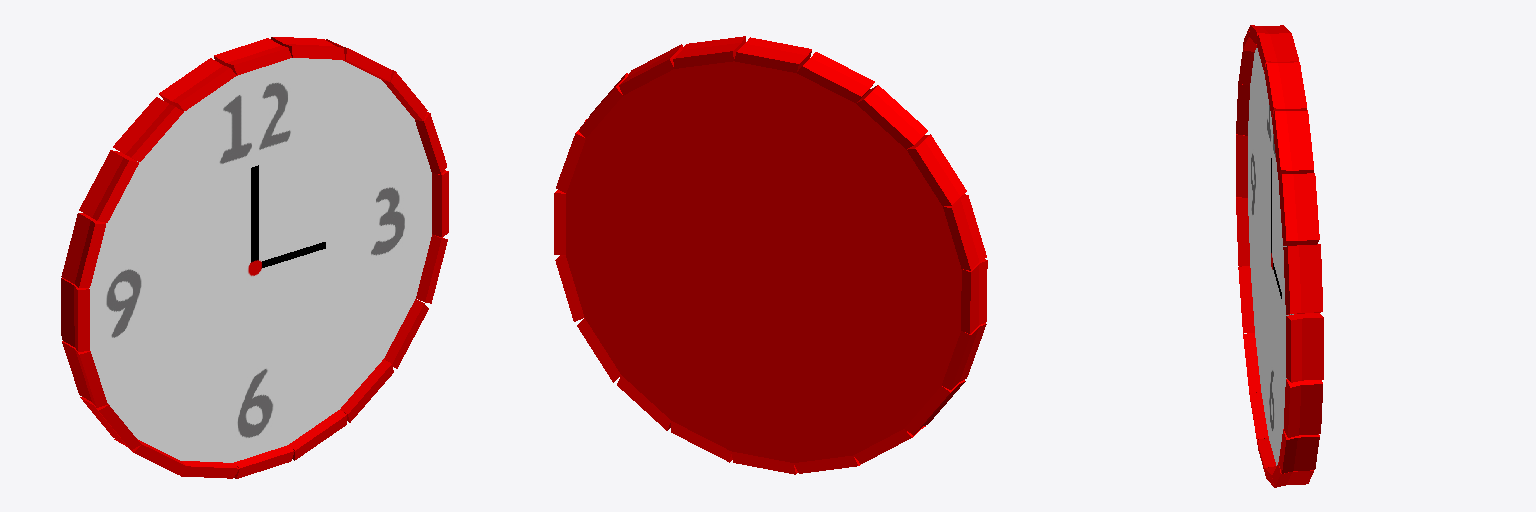
3 renders of one model, left to right at view 1: azimuth 30°, elevation 25°; view 2: azimuth 150°, elevation 25°; view 3: azimuth 270°, elevation 25°, orthographic.
Parts seen in each view (by area): view 1: pCylinder1; view 2: pCylinder1; view 3: pCylinder1.
Part boxes in pixels (x1,y1,x2,y2): pCylinder1: (61,37,448,478); pCylinder1: (554,36,987,474); pCylinder1: (1236,25,1323,487).
Bounding box in the file's own units: 12.85 × 12.83 × 2.47.
3 materials, 1 textured.